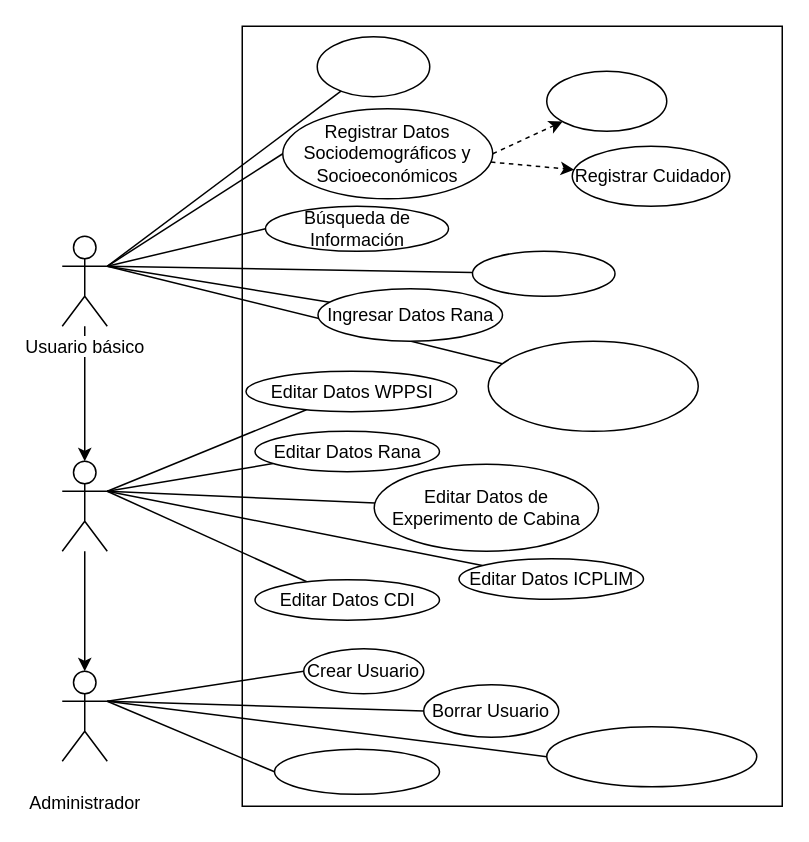
The diagram is 809 pixels wide and 842 high, and some of its shapes have lost their labels. The shapes that lost their labels are listed below. From the top down, each one's centre as x and y in pixels, then its label:
point 373,66: Ingresar al Sistema
point 606,100: Registrar Bebé
point 543,273: Ingresar datos WPPSI
point 592,385: Ingresar Datos de Experimento de Cabina
point 84,505: Capturador
point 356,771: Cambiar Permisos
point 651,756: Borrar Registros de la Base
